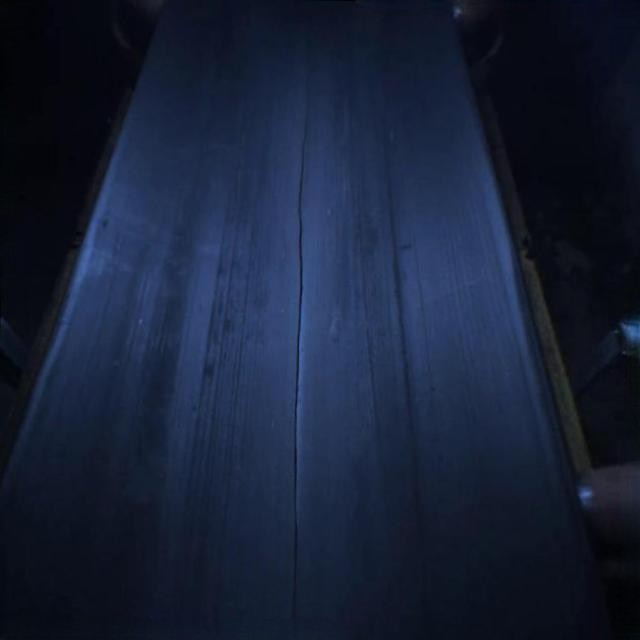Tear: (282, 67, 316, 640)
